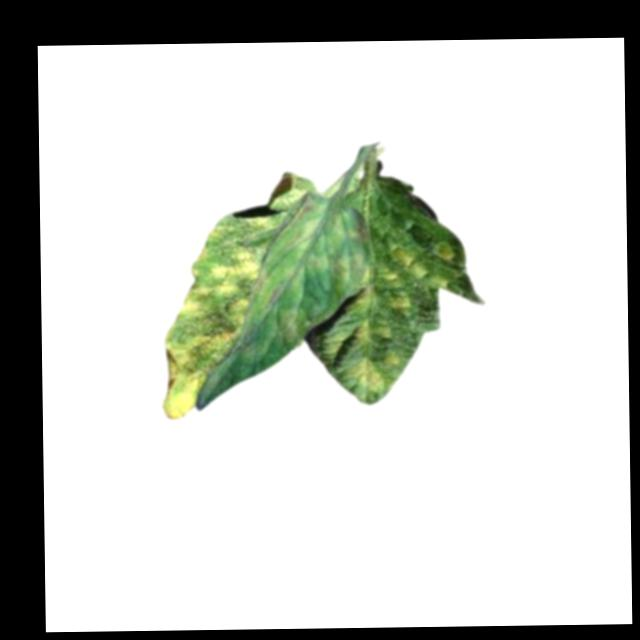Leaf_Mold: (157, 214, 276, 418), (257, 196, 370, 351), (375, 237, 456, 309), (344, 349, 398, 397), (349, 315, 391, 346)
